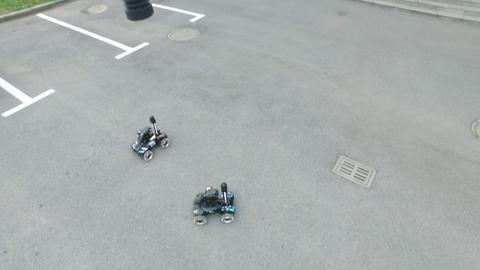chariot: (191, 181, 237, 227), (132, 115, 171, 165)
